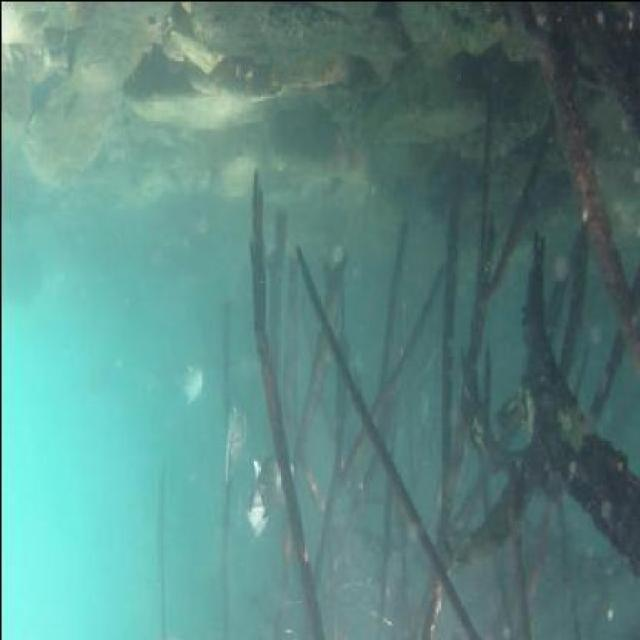Caranx_sexfasciatus_juvenile: (234, 452, 288, 536), (238, 462, 276, 547), (212, 396, 246, 467), (172, 348, 206, 409)
